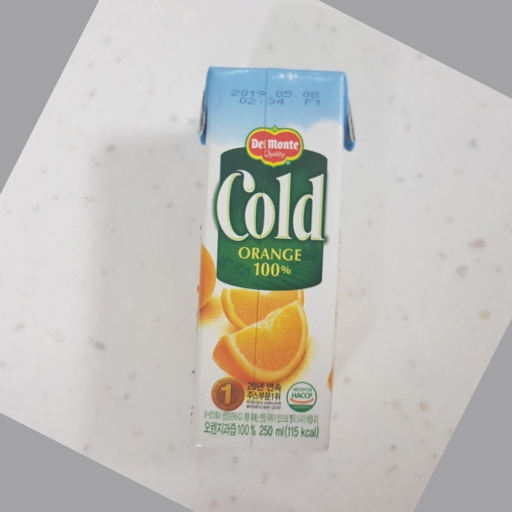Paper_0: (188, 55, 357, 463)
